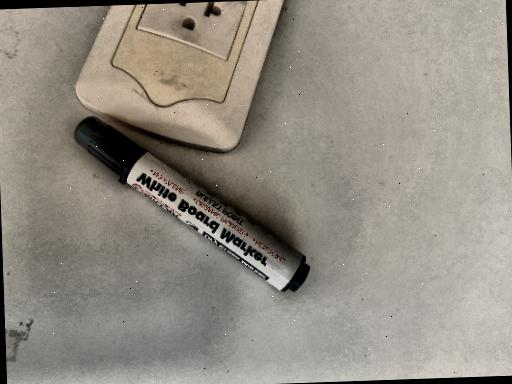marcador negro: (75, 118, 309, 291)
